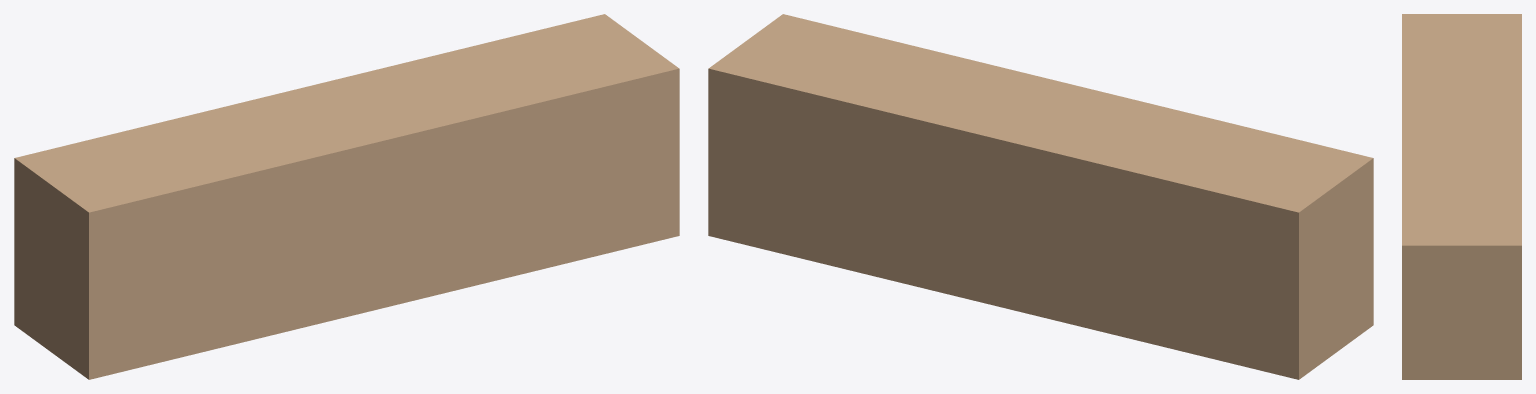
File: media_console_03.glb
3 renders of one model, left to right at view 1: azimuth 30°, elevation 25°; view 2: azimuth 150°, elevation 25°; view 3: azimuth 270°, elevation 25°, orthographic. The views are drawn at different scales.
Size of the model in its own units: 1.92 by 0.52 by 0.42.
